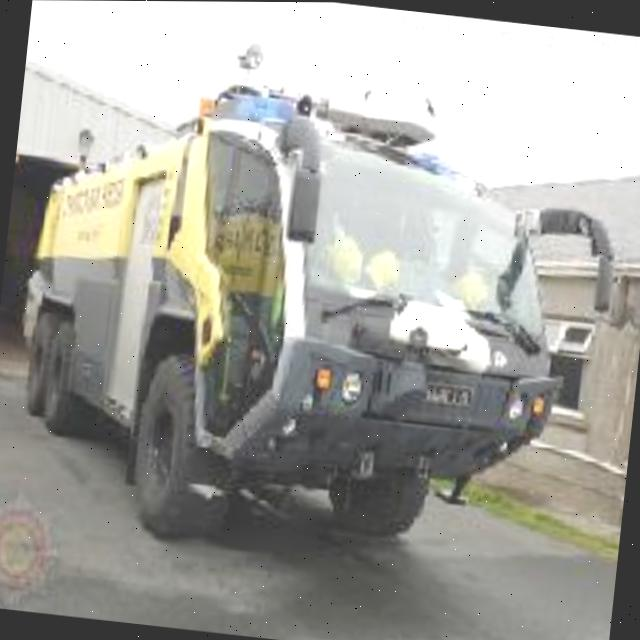emergency: (13, 71, 597, 567)
